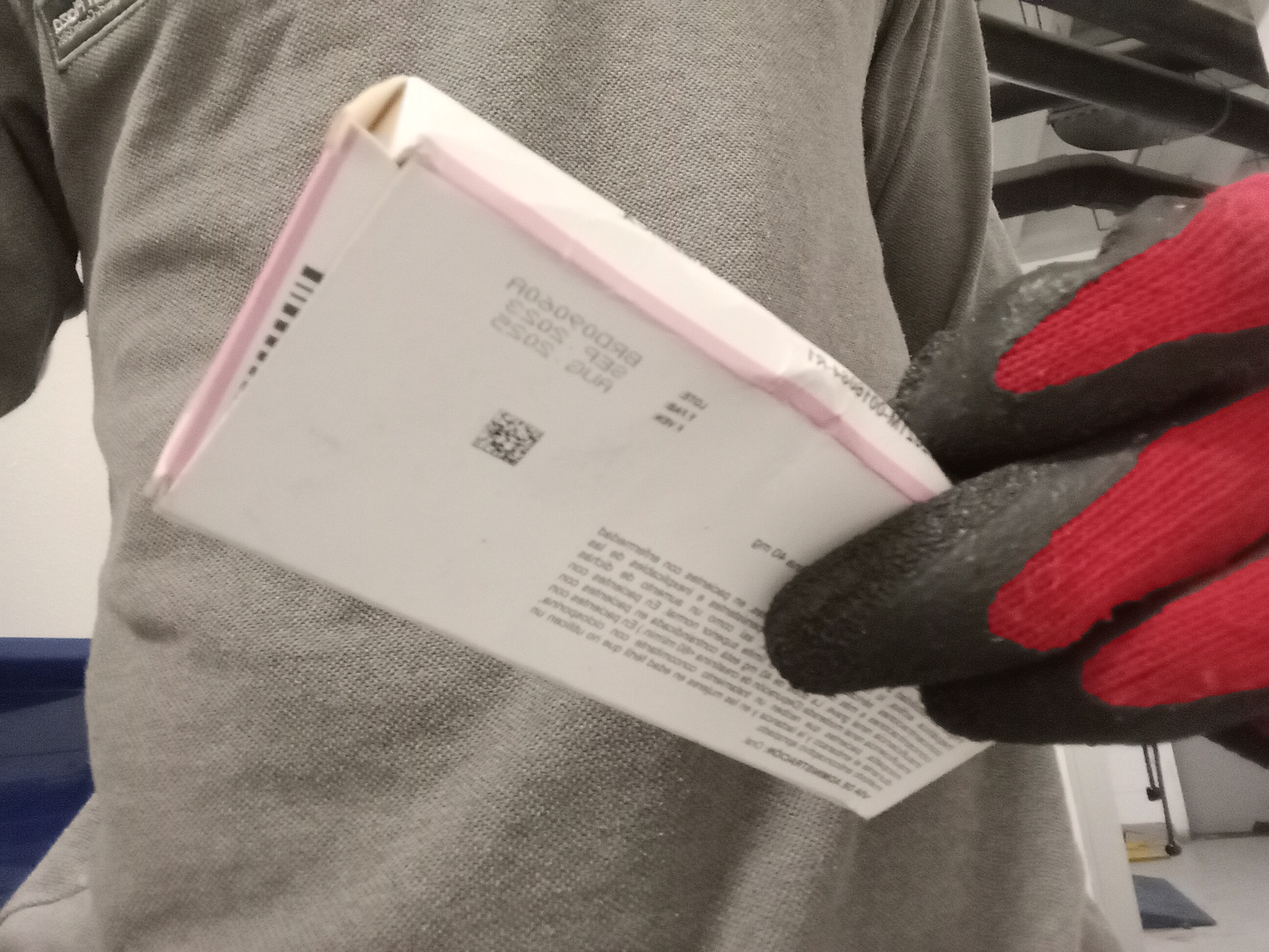Carton: (142, 70, 1065, 821)
